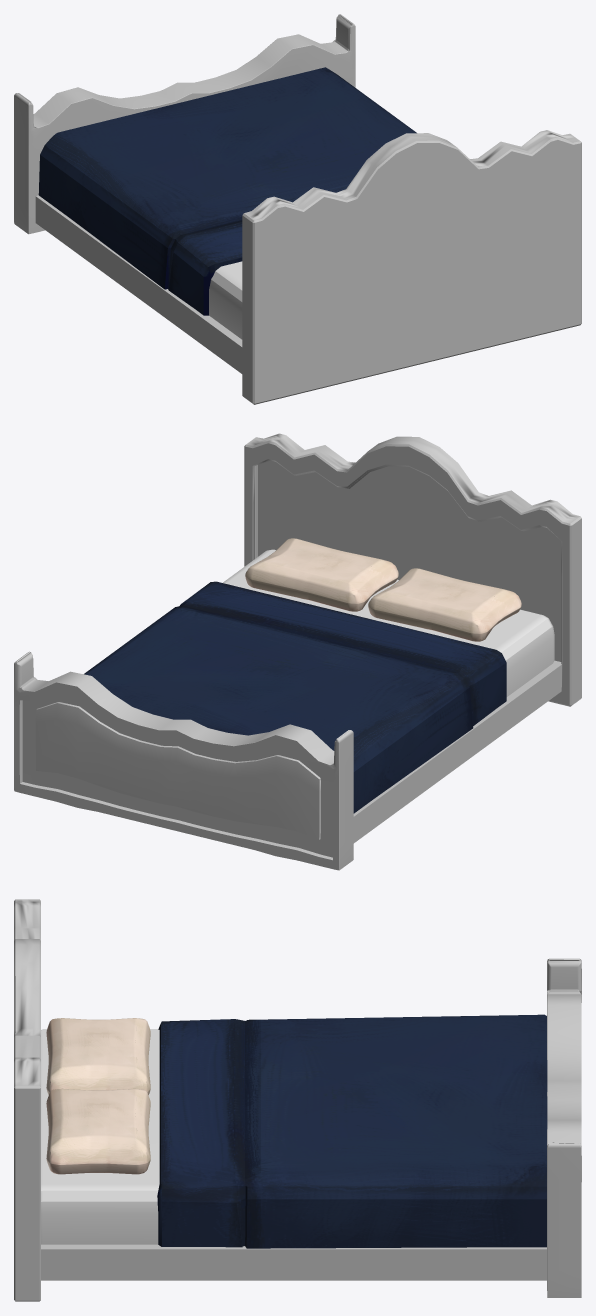
File: CleanBedRoughness.fbx
3 views of the same model, one above another, from view 1: azimuth 30°, elevation 25°; view 2: azimuth 150°, elevation 25°; view 3: azimuth 270°, elevation 25° (orthographic). The views are drawn at different scales.
Visible parts, largest first — view 1: Bedframe, clean_blanker.001, mattress.001; view 2: Bedframe, clean_blanker.001, Pillows, Pillows.001, mattress.001; view 3: clean_blanker.001, Bedframe, mattress.001, Pillows, Pillows.001.
Boxes of the visible parts, x1,y1,x2,y2 form: Bedframe: [14, 14, 581, 404]; clean_blanker.001: [38, 67, 416, 315]; mattress.001: [209, 261, 242, 339]; Bedframe: [14, 433, 581, 870]; clean_blanker.001: [84, 581, 506, 813]; Pillows: [245, 538, 398, 611]; Pillows.001: [368, 568, 521, 641]; mattress.001: [223, 549, 554, 696]; clean_blanker.001: [157, 1014, 547, 1248]; Bedframe: [14, 899, 581, 1301]; mattress.001: [41, 1029, 159, 1244]; Pillows: [46, 1088, 150, 1174]; Pillows.001: [46, 1018, 150, 1094].
Bounding box in the file's own units: 427 × 277 × 543.
